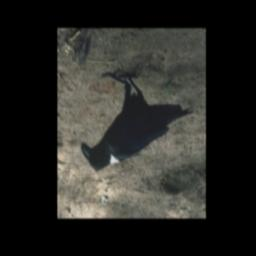Crow: (81, 69, 195, 174)
